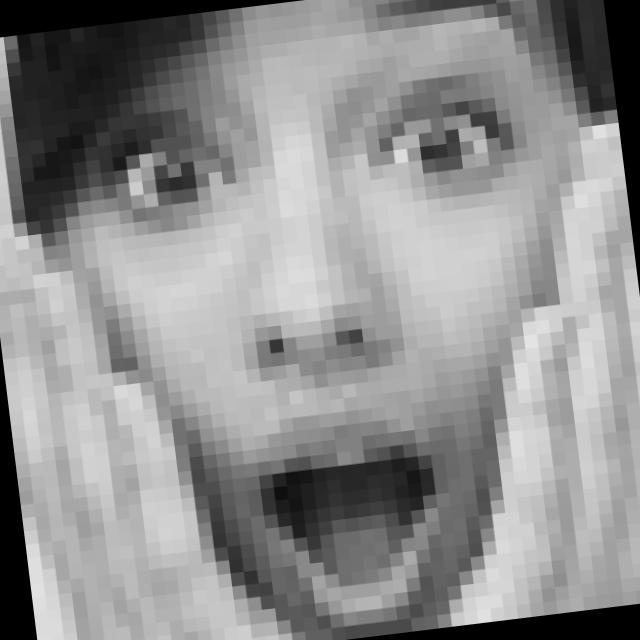surprise: (87, 49, 584, 640)
